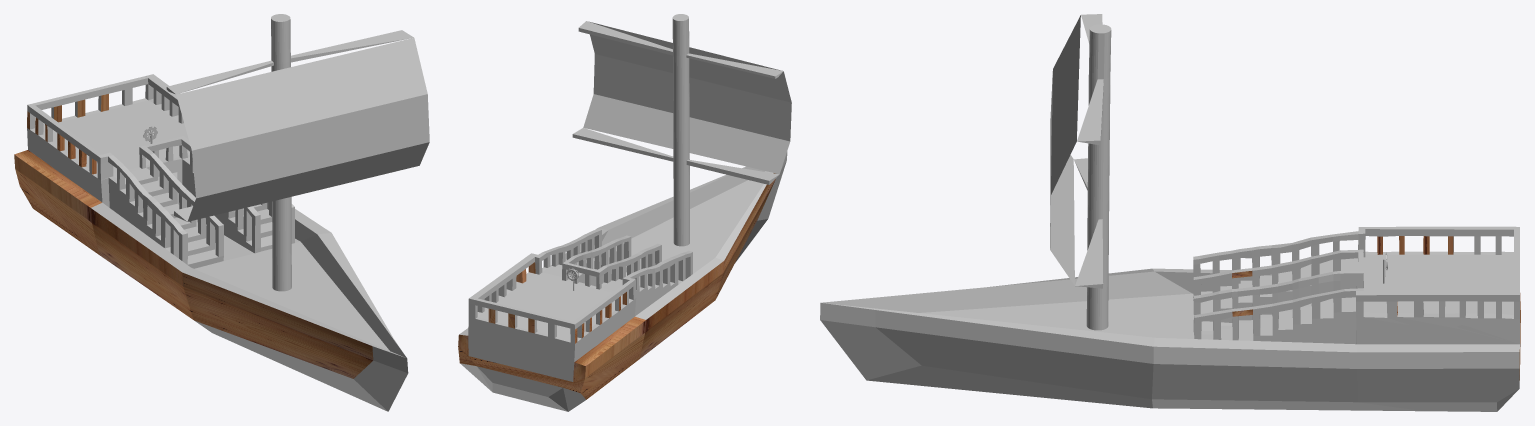
File: ship2.fbx
3 views of the same model, side by side, from view 1: azimuth 30°, elevation 25°; view 2: azimuth 150°, elevation 25°; view 3: azimuth 270°, elevation 25° (orthographic). The views are drawn at different scales.
Visible parts, largest first — view 1: Cube; view 2: Cube; view 3: Cube.
Part boxes in pixels (<box>): Cube: <box>14,14,429,411</box>; Cube: <box>458,14,791,411</box>; Cube: <box>820,14,1520,411</box>.
Bounding box in the file's own units: 35390 × 45665 × 80548.
